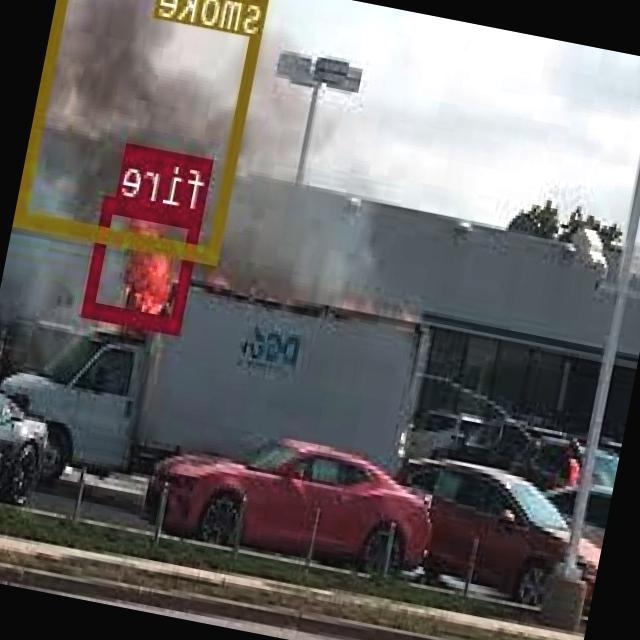fire: (84, 194, 204, 333)
smoke: (15, 0, 274, 264)
